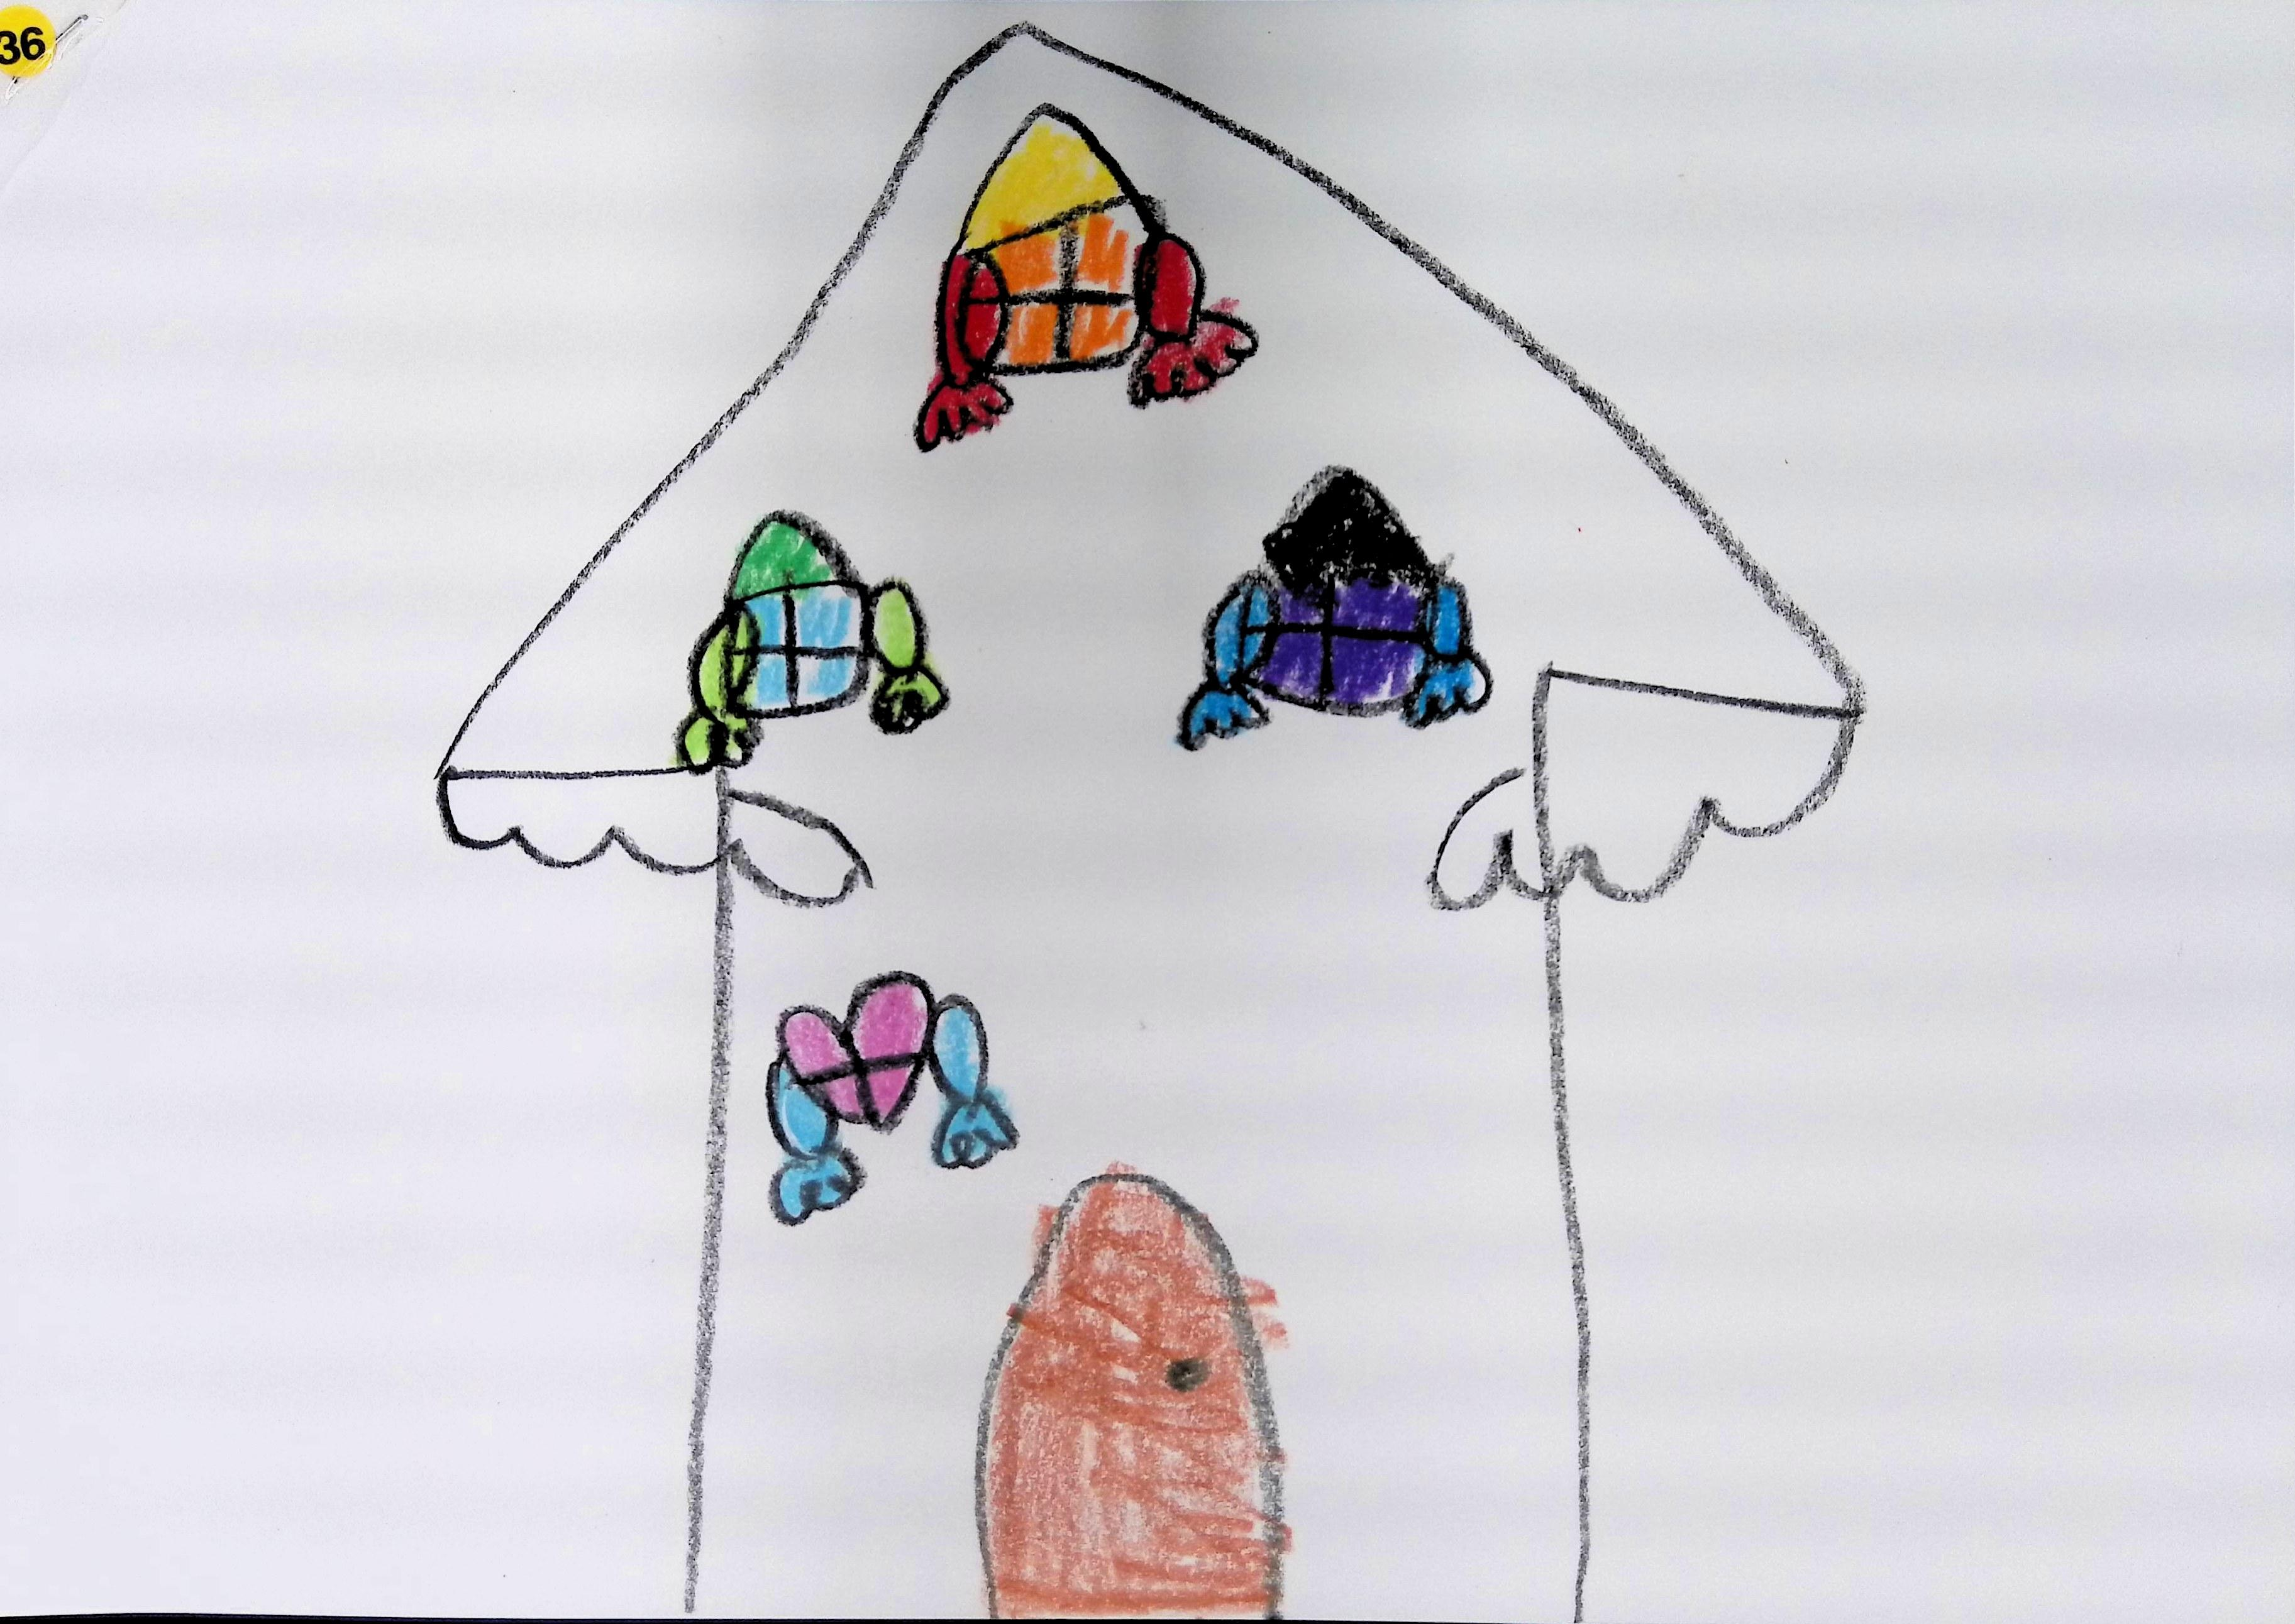door: (977, 1171, 1288, 1620)
house: (431, 32, 1870, 1624)
roof: (439, 30, 1871, 782)
wall: (684, 698, 1597, 1624)
window: (914, 102, 1258, 448), (1177, 466, 1492, 749), (675, 510, 947, 772), (764, 972, 1017, 1227)
